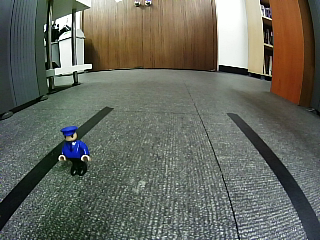person: (58, 126, 91, 176)
